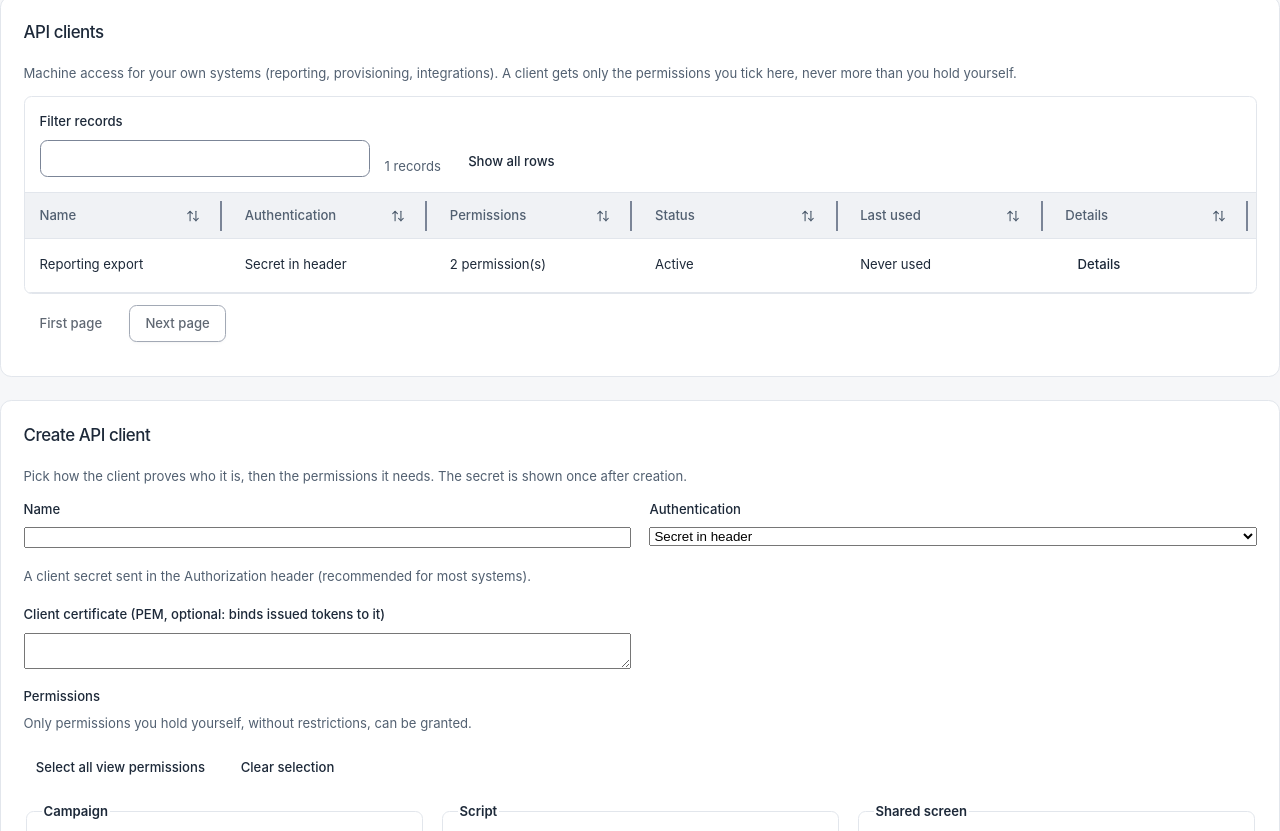
Test: rotates only after the operator confirms
Click the button "Show all rows" at (511, 162), box left=456, top=147, right=567, bottom=177
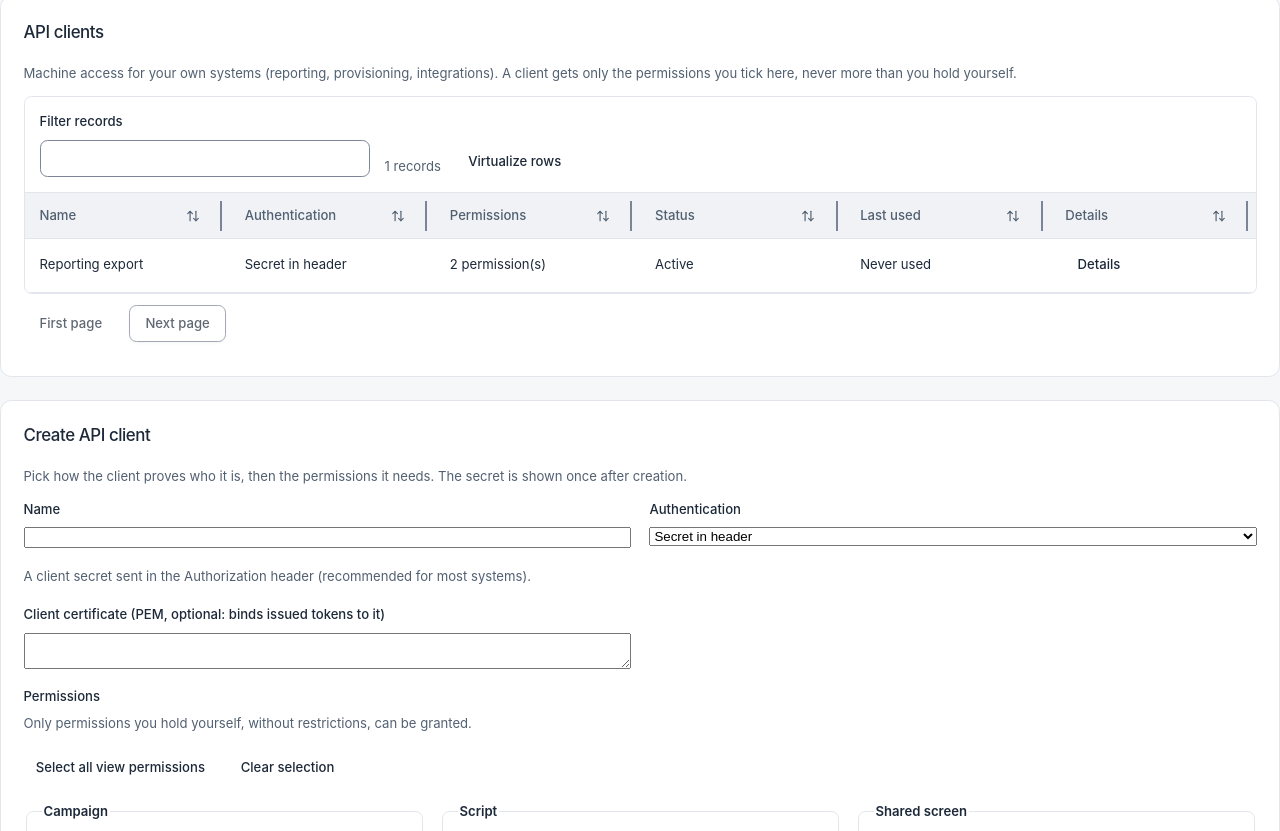
Click the button "Details" in the row of "Reporting export" at (1099, 265), box left=1065, top=250, right=1133, bottom=280
(page scrolled)
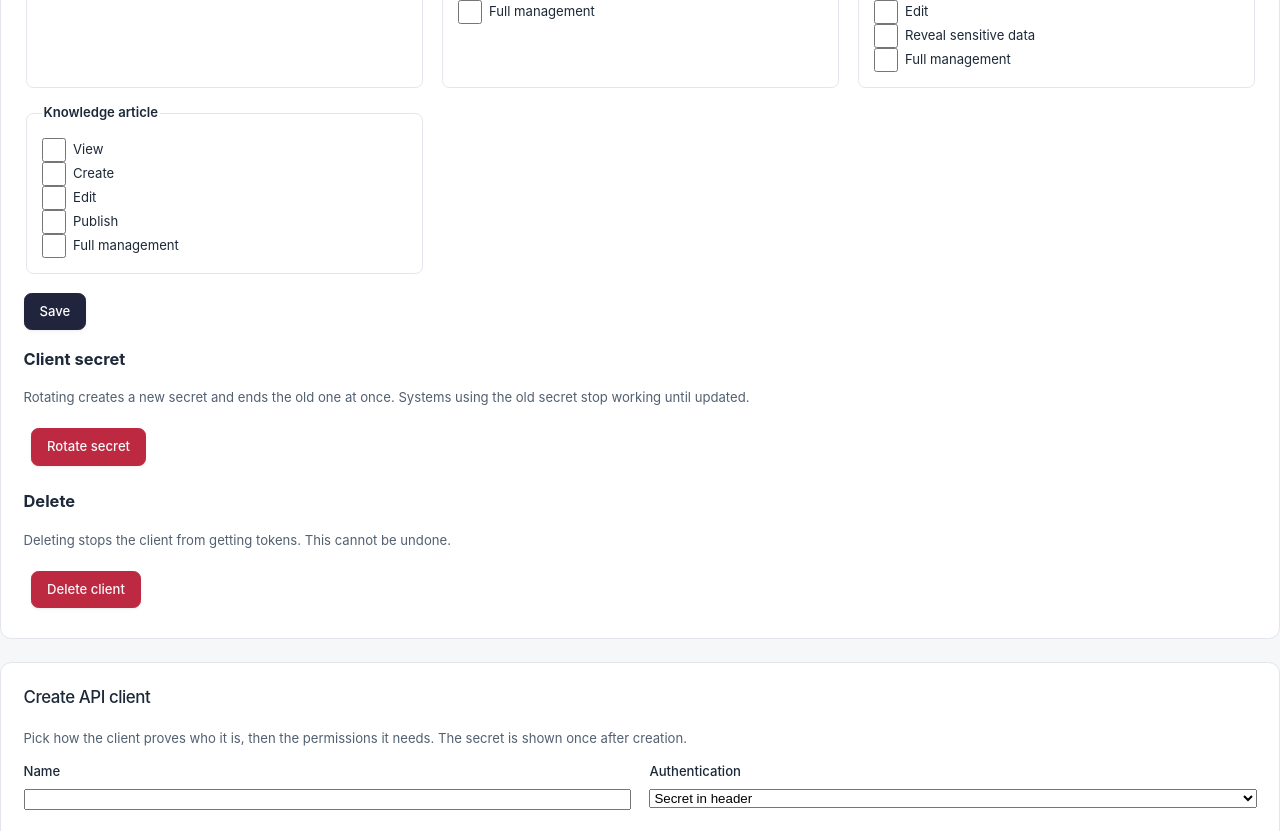
Click the button "Rotate secret" at (88, 447), box left=31, top=428, right=146, bottom=466
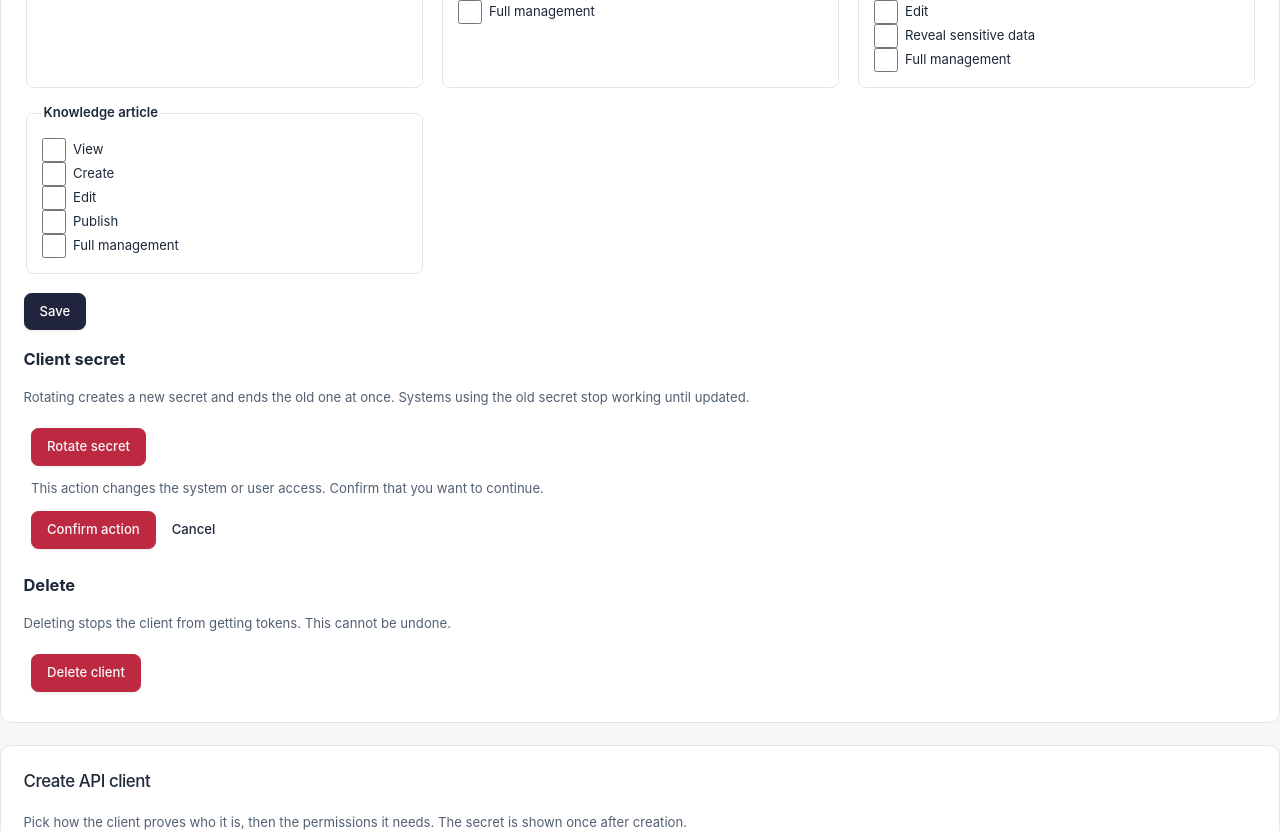
Click the button "Confirm action" at (93, 530), box left=31, top=512, right=156, bottom=549
(page scrolled)
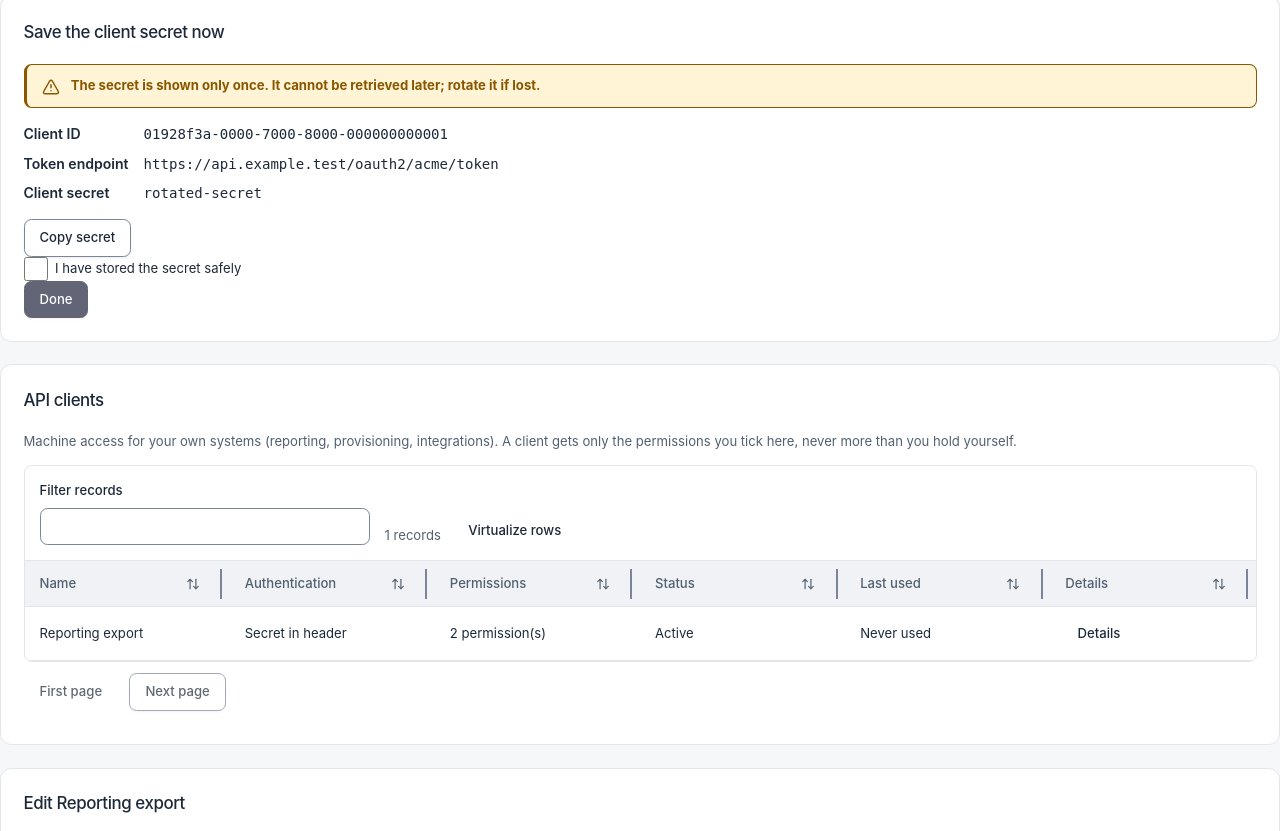
Check: the text with test id "client-secret" reads "rotated-secret", box left=144, top=185, right=262, bottom=201
